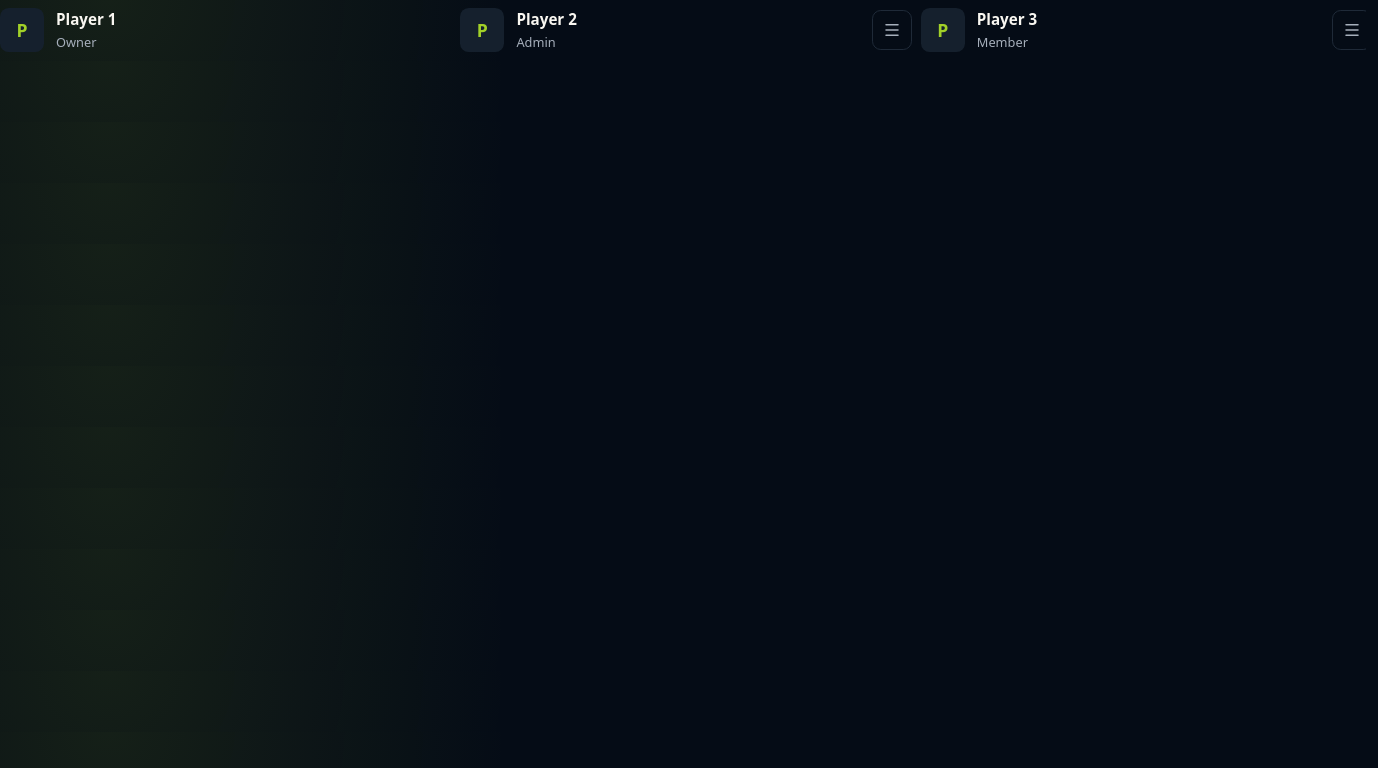
Test: member menu › lets the owner transfer ownership to an admin, after confirming
A member has to be made an admin first.
Click the button named "Options for Player 3" at (1349, 30), box [1332,10,1366,50]
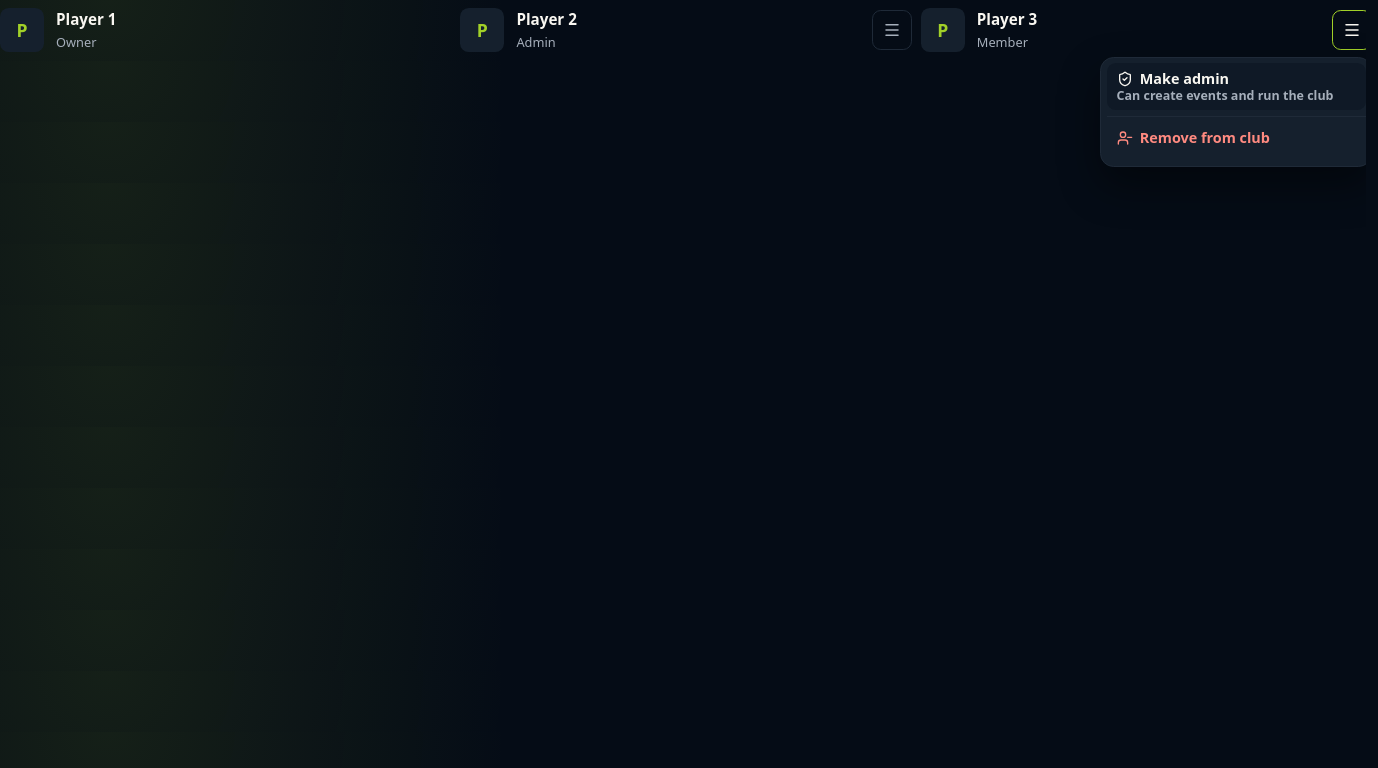
Expected: the menu item "Transfer ownership" is not shown
Press Escape
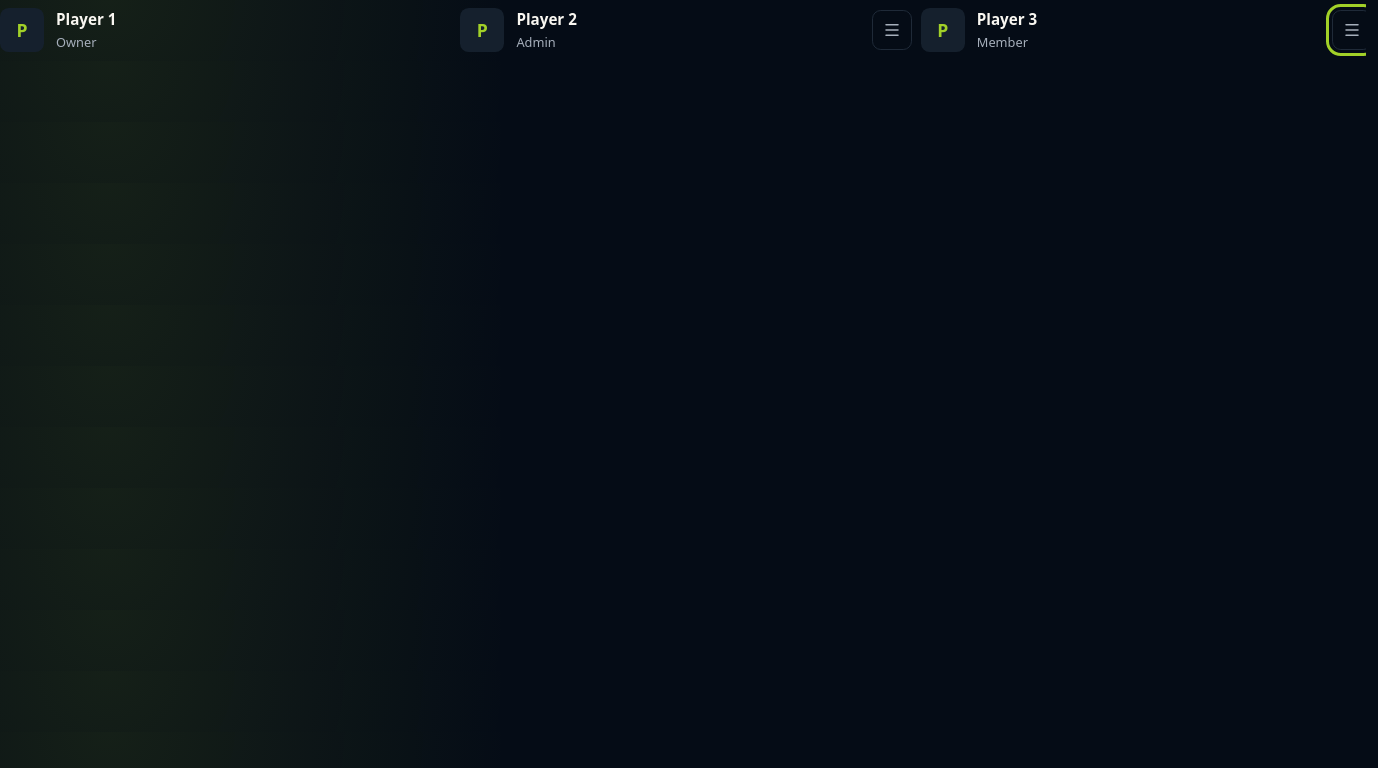
Click the button named "Options for Player 2" at (892, 30), box [872,10,912,50]
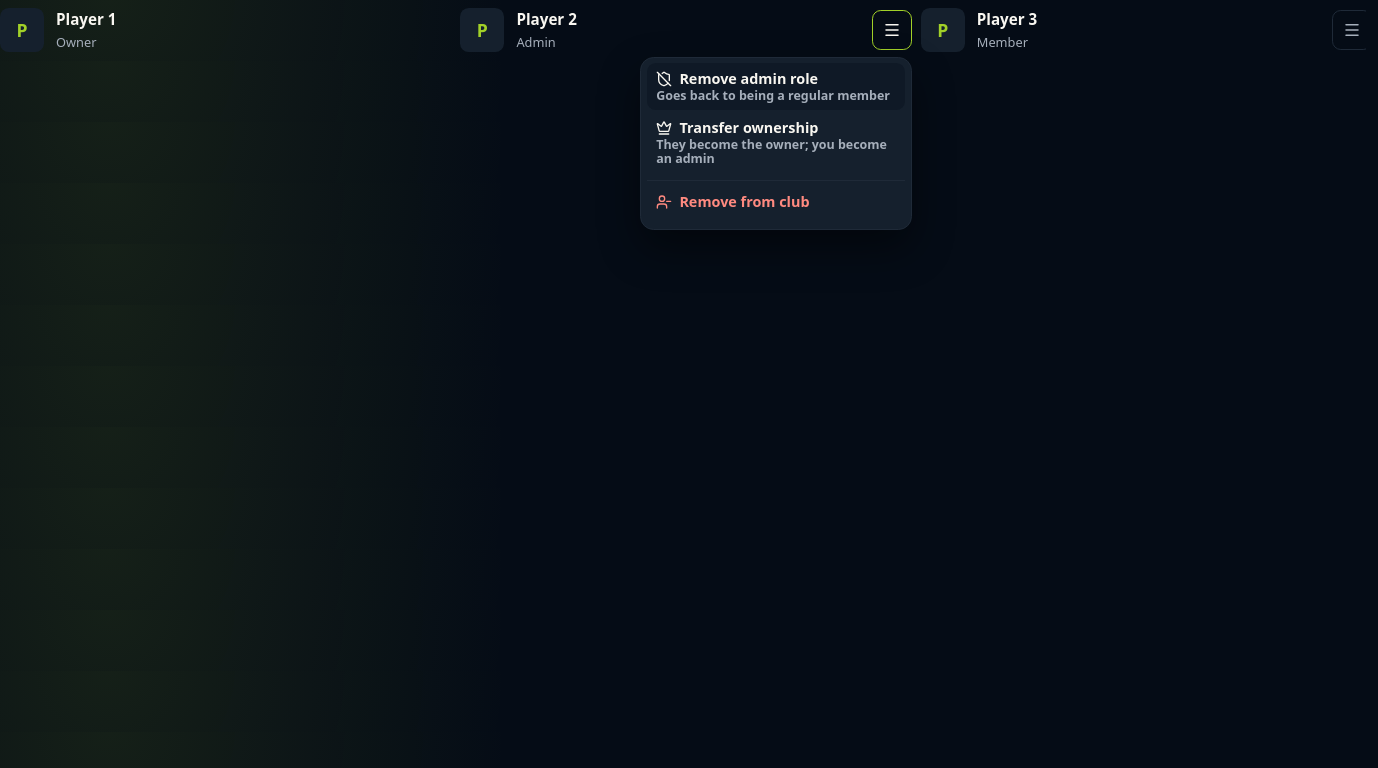
Click the menu item "Transfer ownership" at (776, 143), box [647,113,905,174]
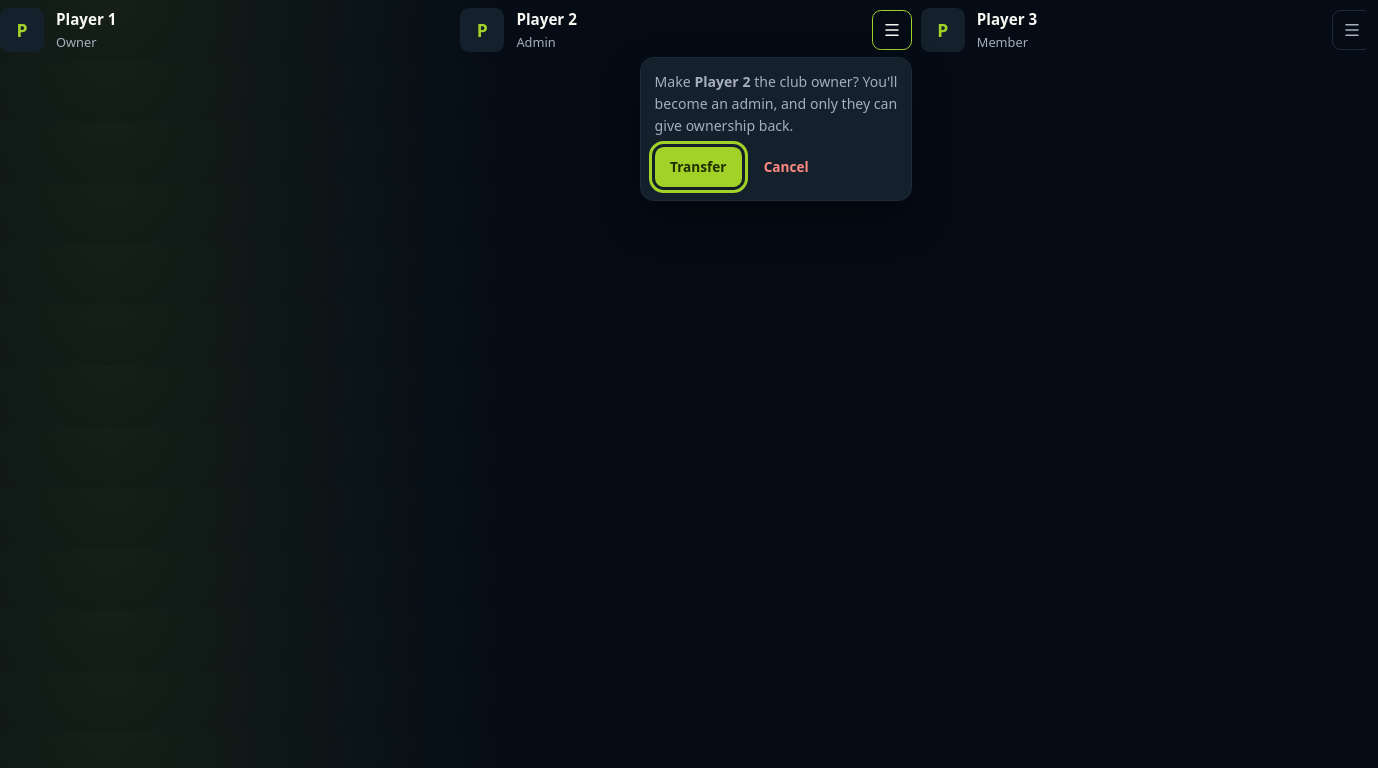
Click the menu item "Transfer" at (698, 166), box [655,146,742,186]
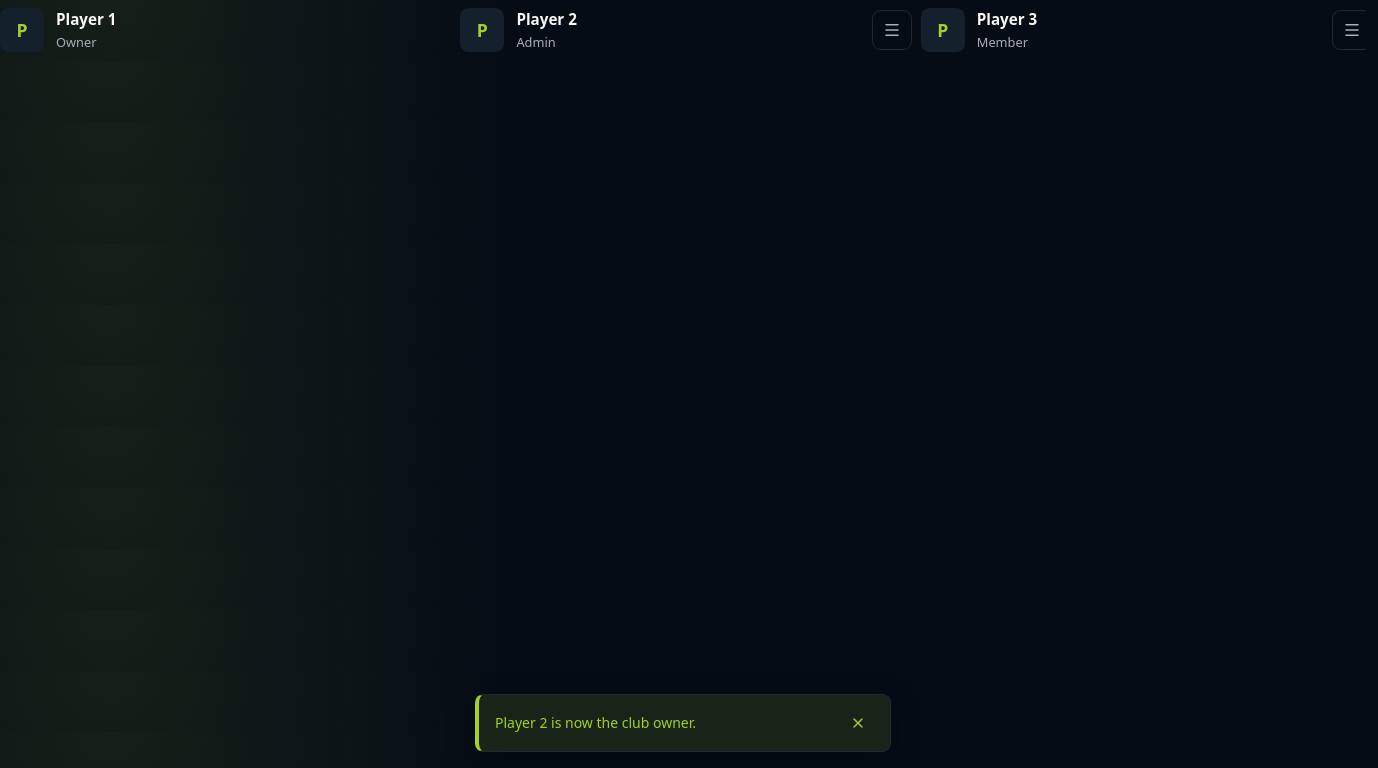
Now the message reads "Player 2 is now the club owner.", box [495,713,696,732]
